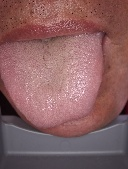tongue: (0, 42, 62, 132)
